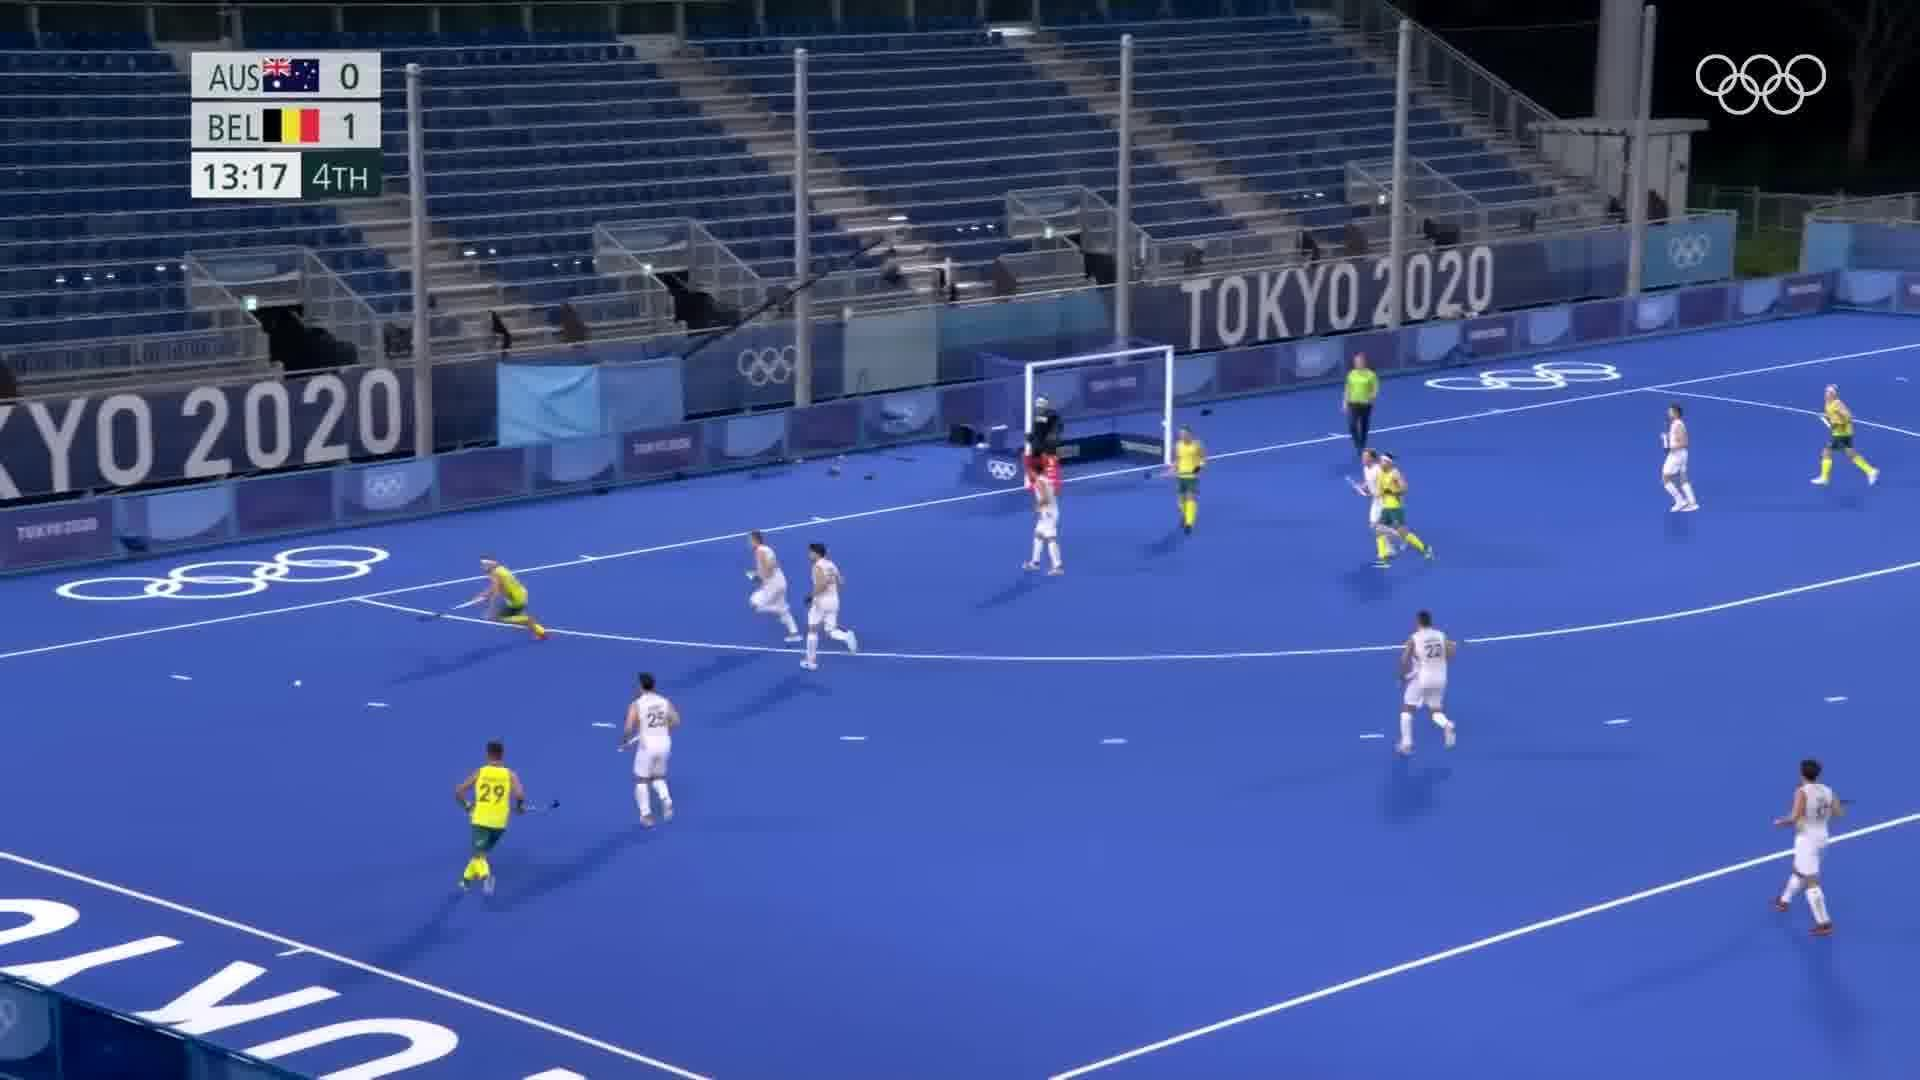ball: (295, 704, 309, 716)
